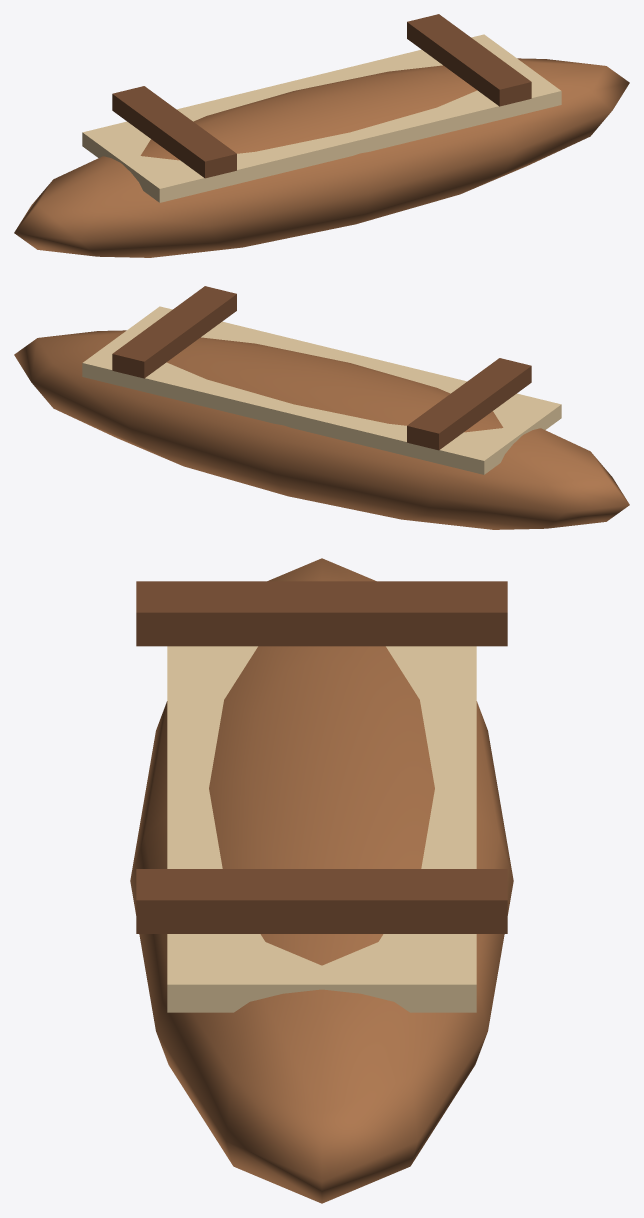
File: canoe.glb
The picture shows the model from 3 angles, top to bottom: view 1: azimuth 30°, elevation 25°; view 2: azimuth 150°, elevation 25°; view 3: azimuth 270°, elevation 25°; orthographic projection. The views are drawn at different scales.
Bounding box in the file's own units: 2.3 × 0.46 × 0.62.
